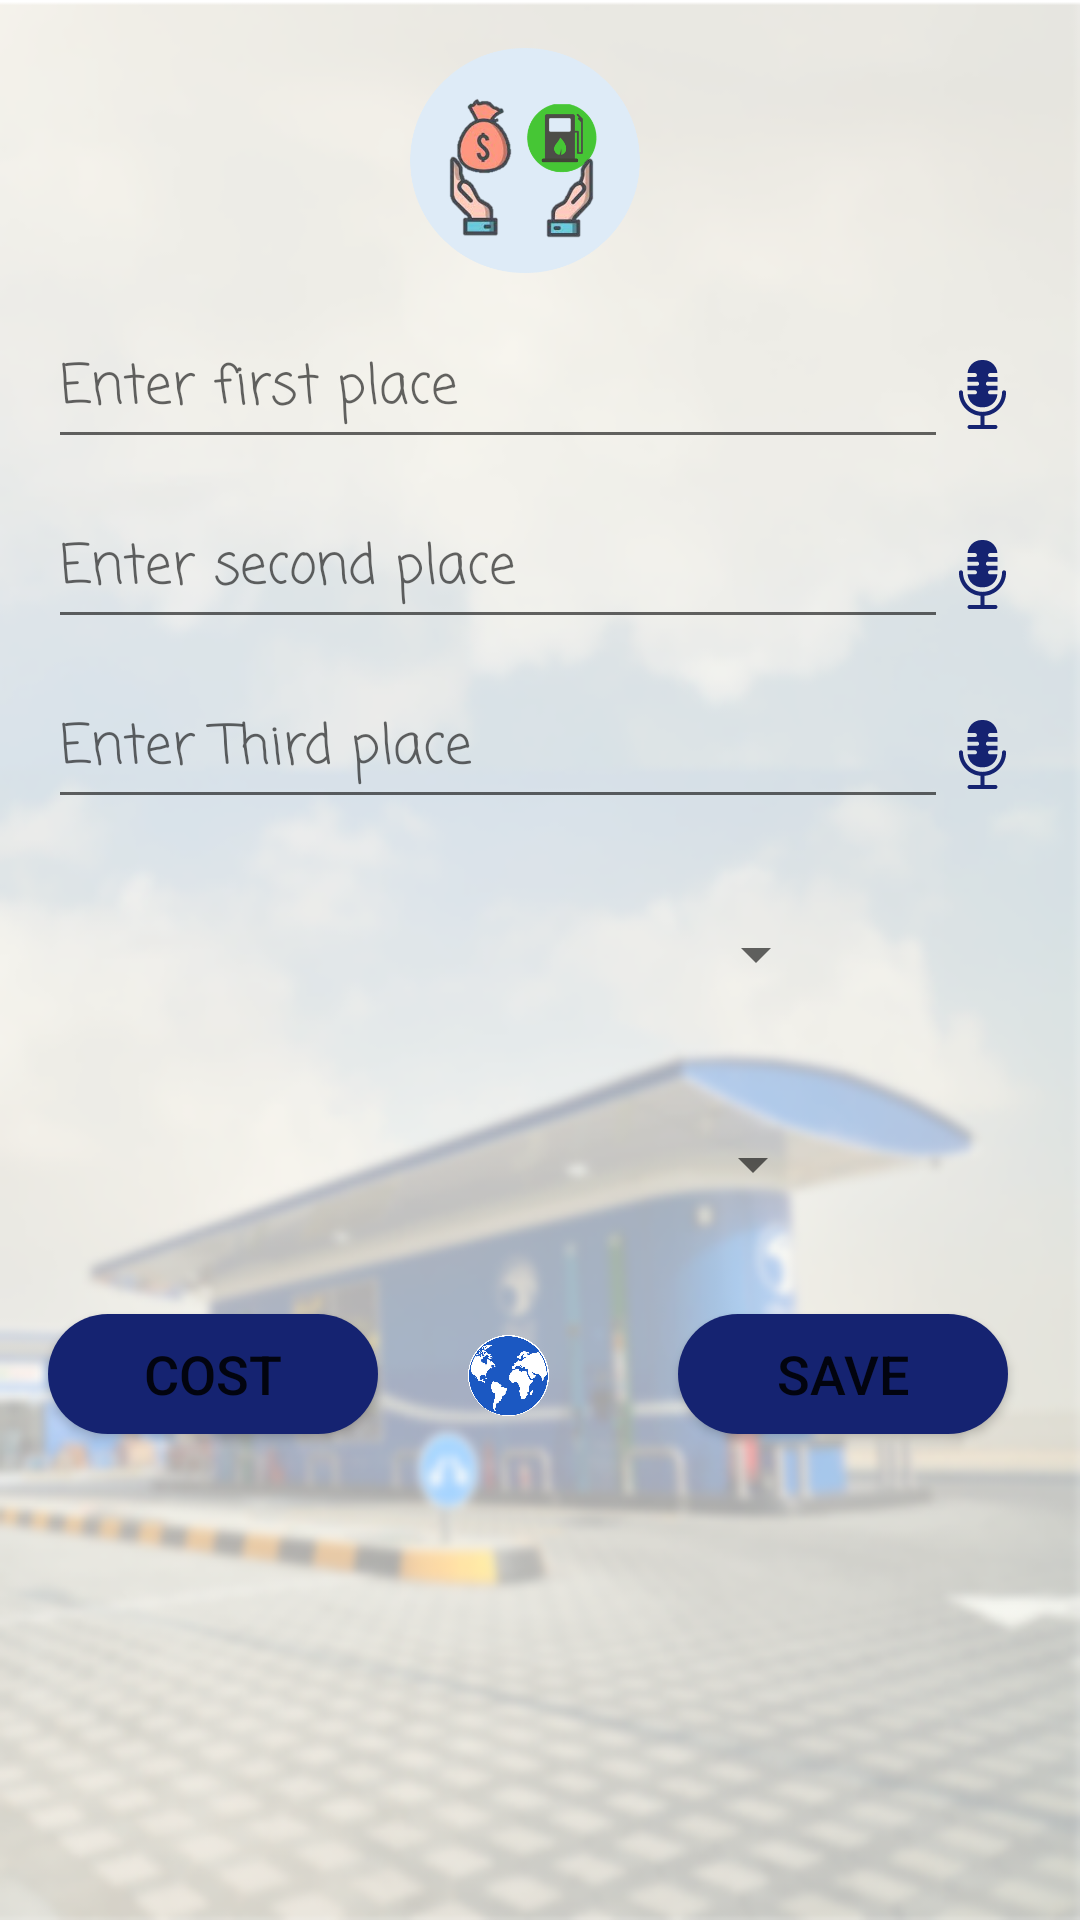

Icon bounding boxes for this 1080*1920 phone screenshot, format (x1, y1, x2, y2):
map: (468, 1314, 549, 1422)
